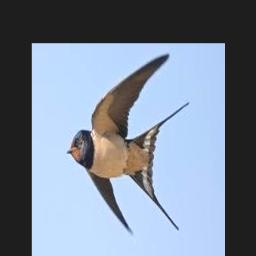Swallow: (67, 53, 189, 234)
